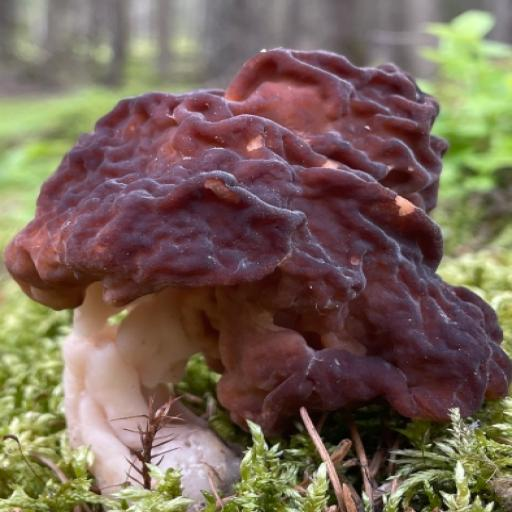False Morel: (0, 12, 512, 512)
